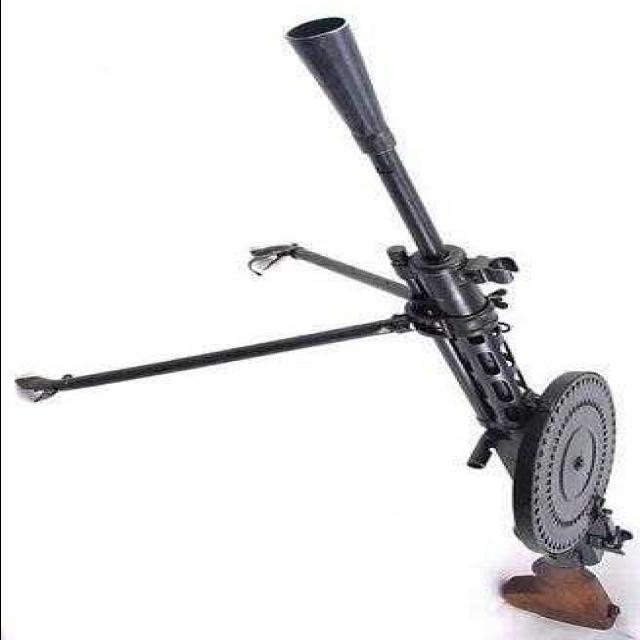heavyweapon: (265, 11, 639, 631)
